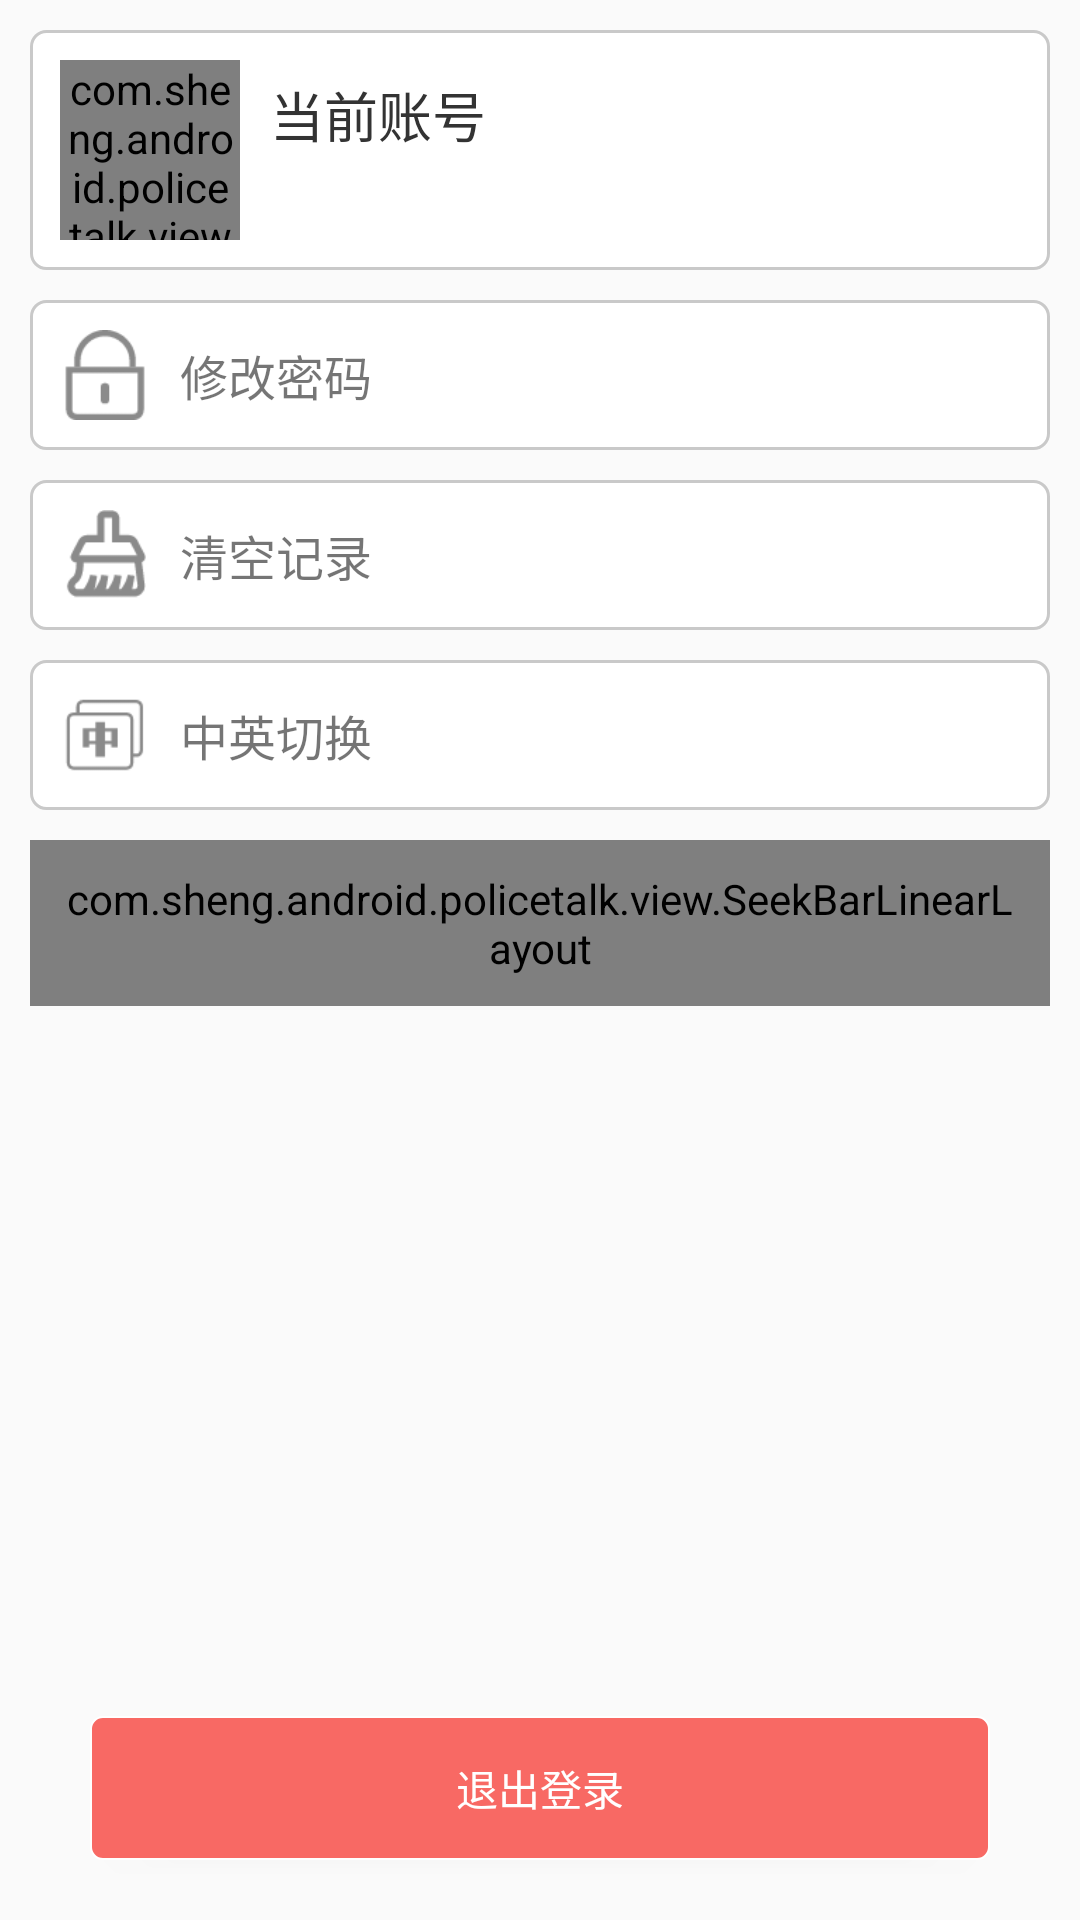

Point at icon controls on the screen. Image size 1080px x 1920px, points as [x,y].
repwd: [105,375]
